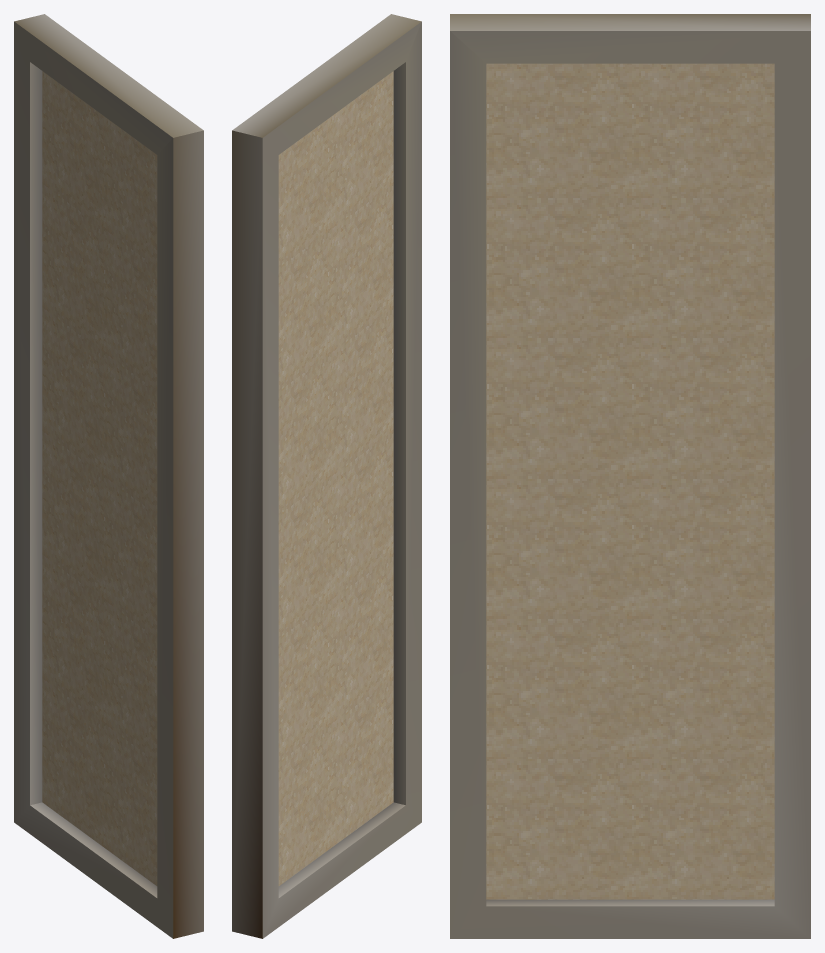
The model's file is tutikabe_1jyo_01.fbx.
3 views of the same model, side by side, from view 1: azimuth 30°, elevation 25°; view 2: azimuth 150°, elevation 25°; view 3: azimuth 270°, elevation 25° (orthographic). The views are drawn at different scales.
Visible parts, largest first — view 1: tutikabe_1jyo_01; view 2: tutikabe_1jyo_01; view 3: tutikabe_1jyo_01.
Boxes of the visible parts, box(x1,y1,x2,y2) form: tutikabe_1jyo_01: box(14, 14, 203, 938); tutikabe_1jyo_01: box(232, 14, 421, 938); tutikabe_1jyo_01: box(450, 14, 810, 938).
Bounding box in the file's own units: 20 × 500 × 180.
